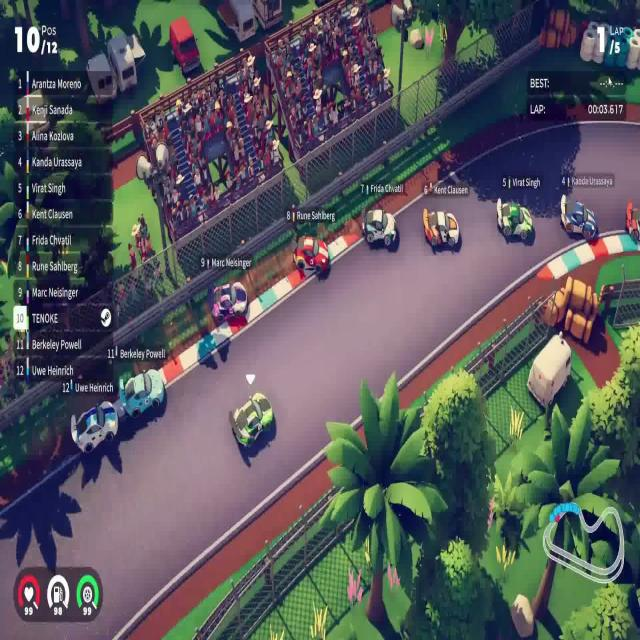car: (70, 399, 119, 456), (231, 390, 274, 450), (118, 367, 165, 419), (560, 193, 598, 242), (496, 196, 534, 243), (210, 280, 248, 326), (292, 234, 330, 278), (361, 206, 398, 251), (422, 207, 459, 249)
